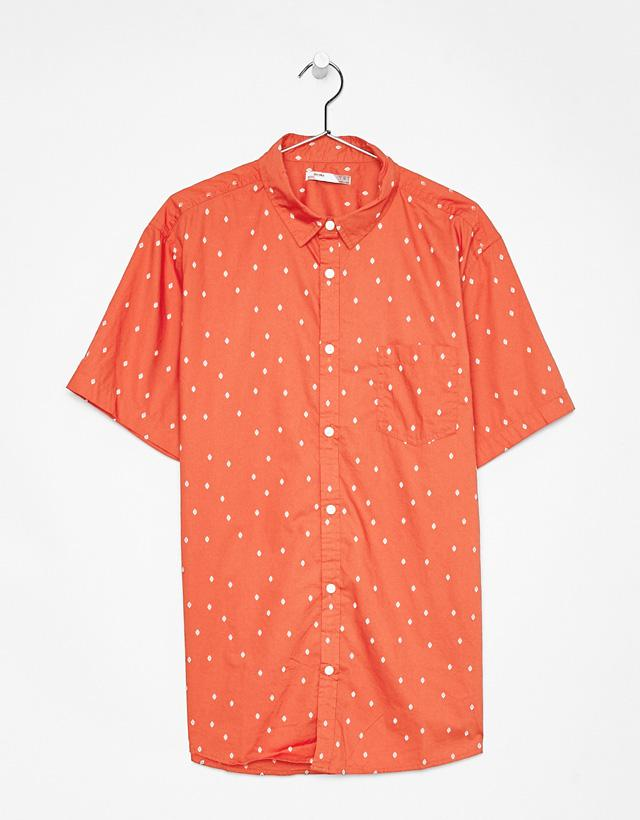teeshirt: (75, 132, 589, 807)
